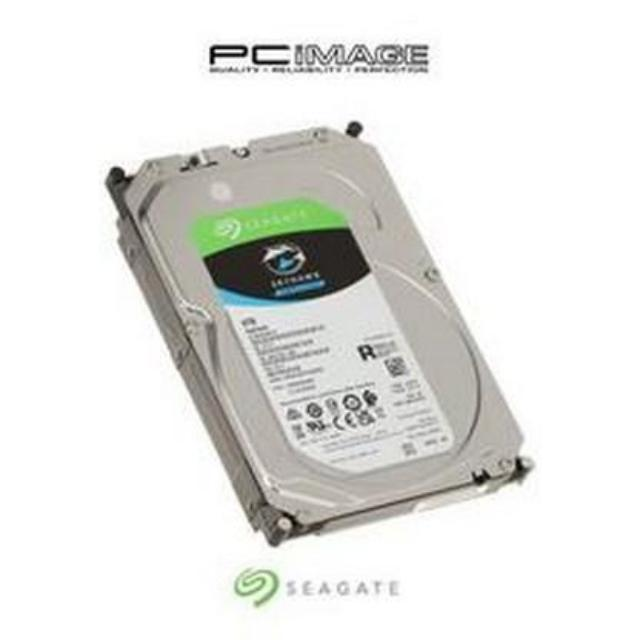DISK: (100, 120, 531, 542)
